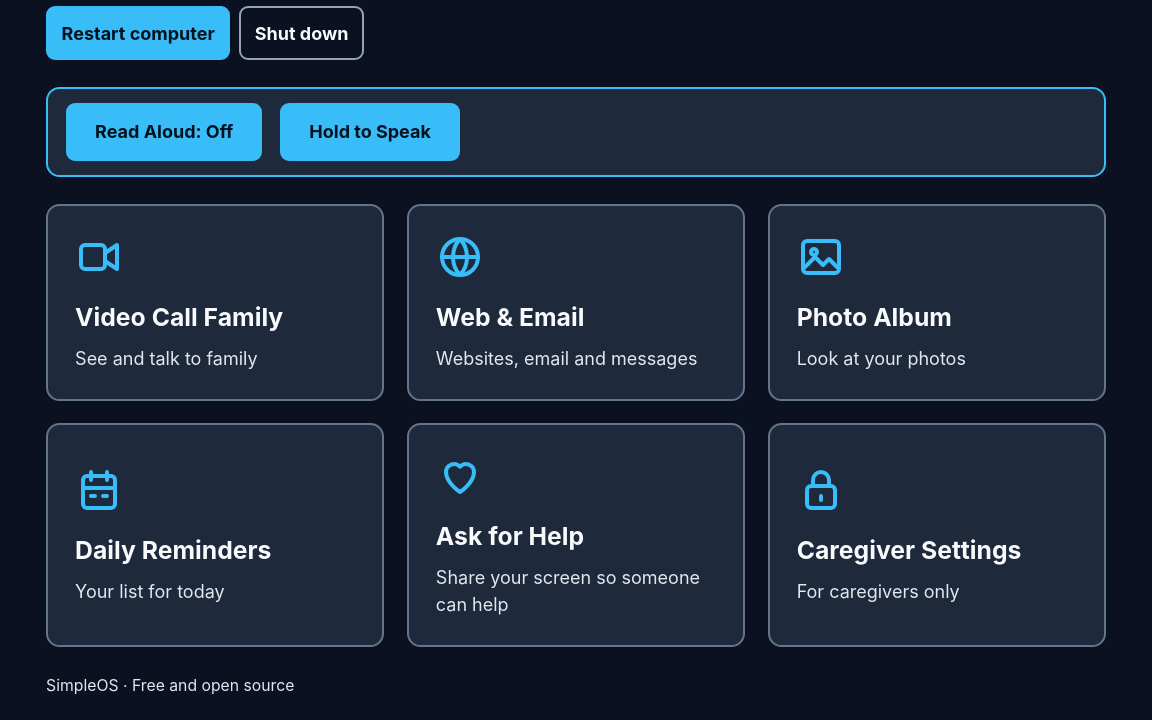
it: App integration › gates Caregiver Settings behind the PIN screen
(page scrolled)
Click the button "Caregiver Settings For caregivers only": (937, 535) [768,423,1106,647]
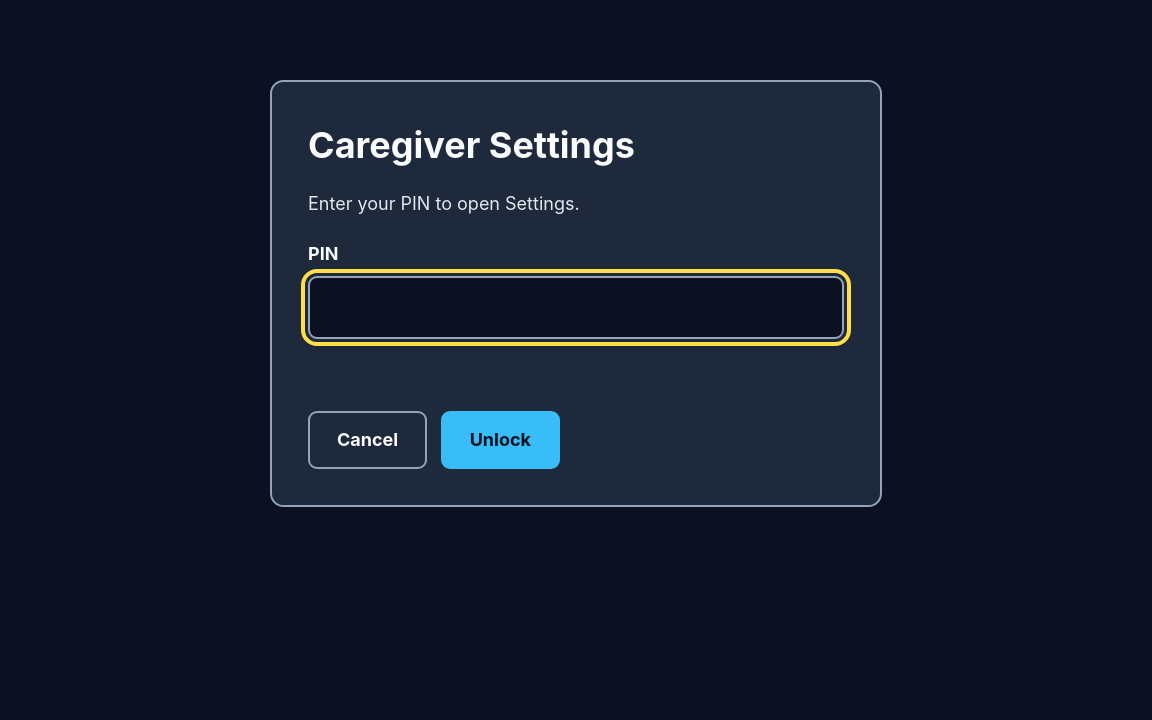
Result: the heading "Caregiver Settings" is shown at [308,123,635,167]
Result: the password field labelled "PIN" is shown at [308,276,844,339]
